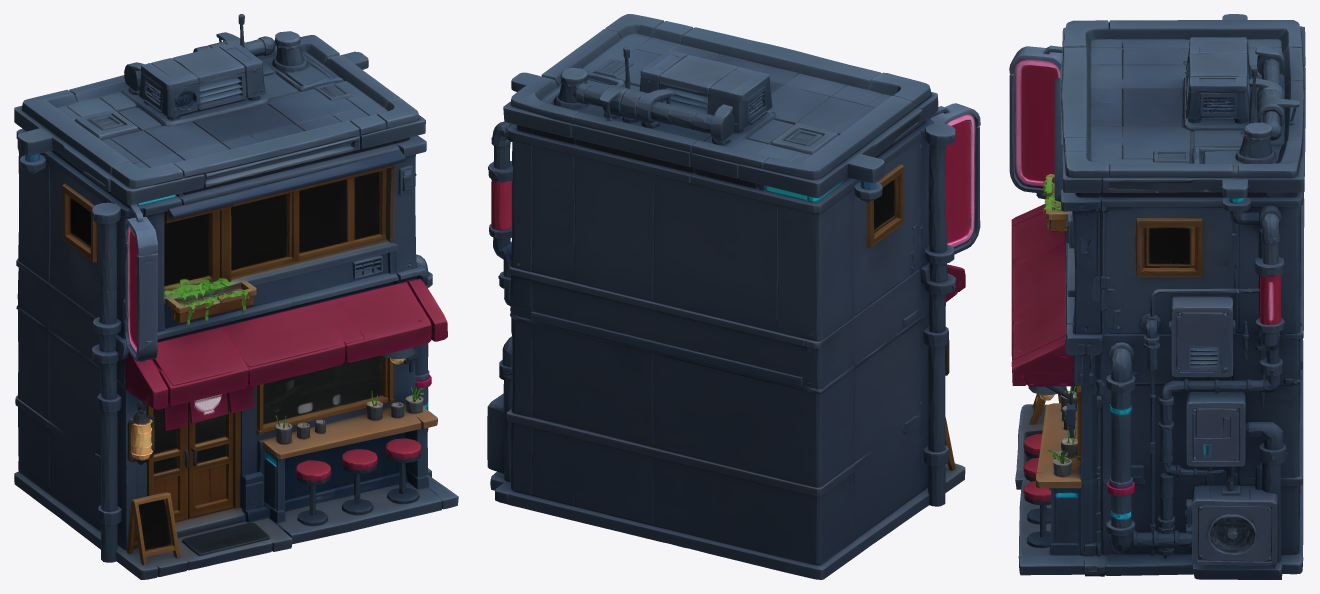
File: source.glb
3 renders of one model, left to right at view 1: azimuth 30°, elevation 25°; view 2: azimuth 150°, elevation 25°; view 3: azimuth 270°, elevation 25°, orthographic. The views are drawn at different scales.
Parts seen in each view (by area): view 1: model; view 2: model; view 3: model.
Part boxes in pixels (left/top/right/bottom): model: left=14, top=14, right=458, bottom=579; model: left=487, top=14, right=980, bottom=579; model: left=1009, top=14, right=1305, bottom=579.
Size of the model in its own units: 1.63 by 1.9 by 1.12.
1 material, 1 textured.
